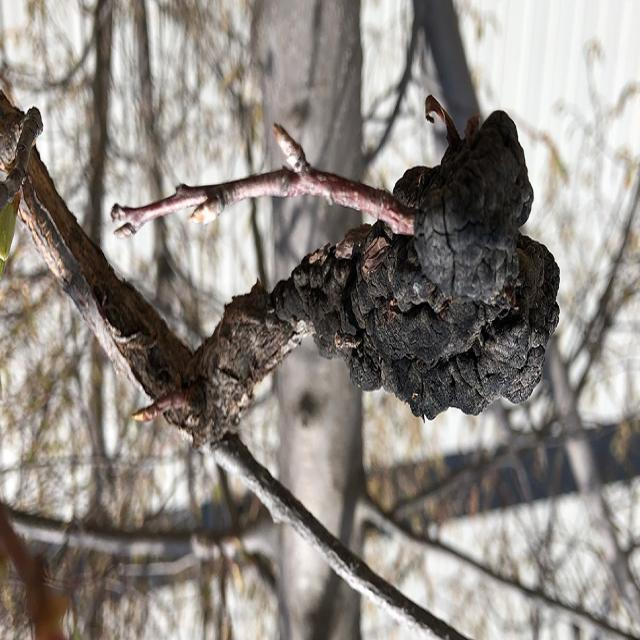Black_knot: (391, 91, 535, 305)
